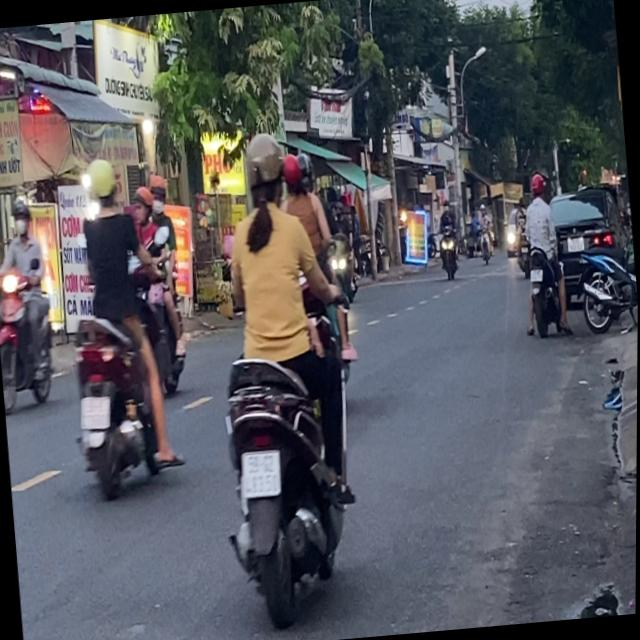helmet: (238, 129, 287, 208), (84, 154, 118, 208), (278, 150, 303, 193), (8, 194, 31, 236), (131, 182, 152, 218), (146, 172, 167, 206), (294, 150, 311, 191), (527, 170, 544, 198)
licenseplate: (191, 121, 375, 634), (50, 149, 180, 501), (125, 170, 193, 395), (0, 191, 62, 414), (513, 168, 572, 338)
nohelmet: (238, 448, 280, 494), (78, 393, 110, 428), (529, 266, 542, 280)
